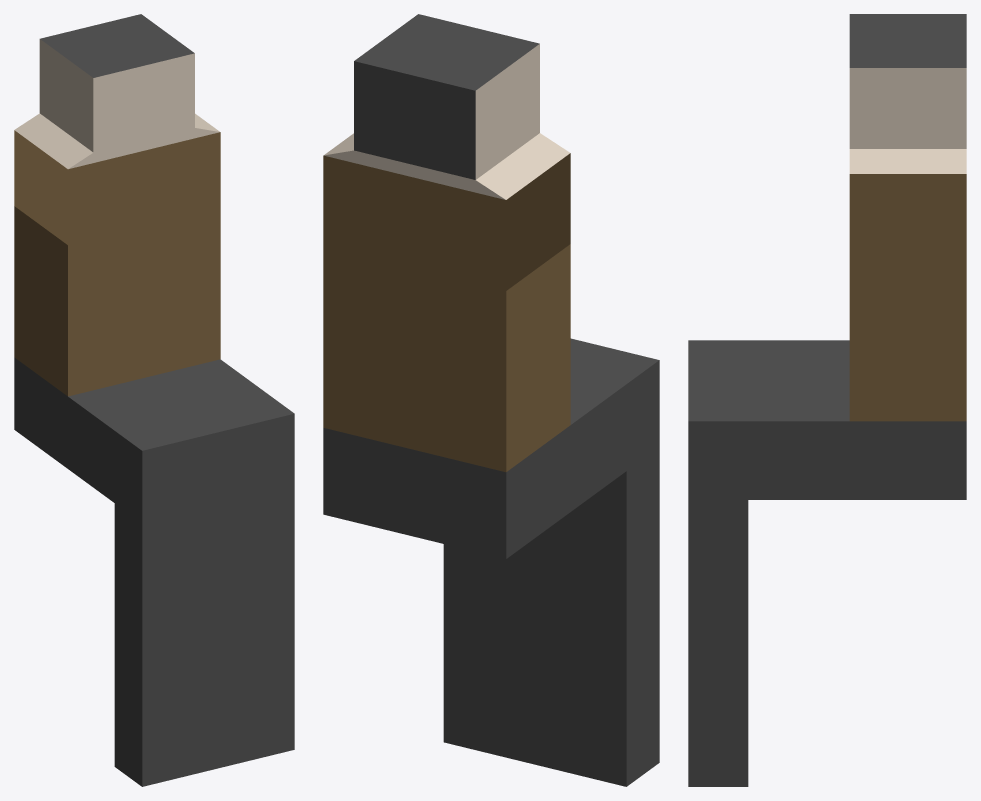
The model's file is person-seated.dae.
3 views of the same model, side by side, from view 1: azimuth 30°, elevation 25°; view 2: azimuth 150°, elevation 25°; view 3: azimuth 270°, elevation 25° (orthographic). The views are drawn at different scales.
Parts seen in each view (by area): view 1: Plane_015; view 2: Plane_015; view 3: Plane_015.
Part boxes in pixels (left/top/right/bottom): Plane_015: left=14, top=14, right=294, bottom=786; Plane_015: left=323, top=14, right=659, bottom=786; Plane_015: left=688, top=14, right=966, bottom=786.
Bounding box in the file's own units: 0.2921 × 0.4245 × 1.19.
